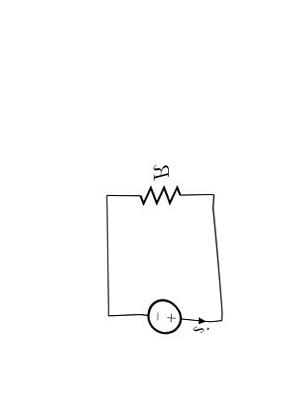Battery: (135, 287, 186, 348)
